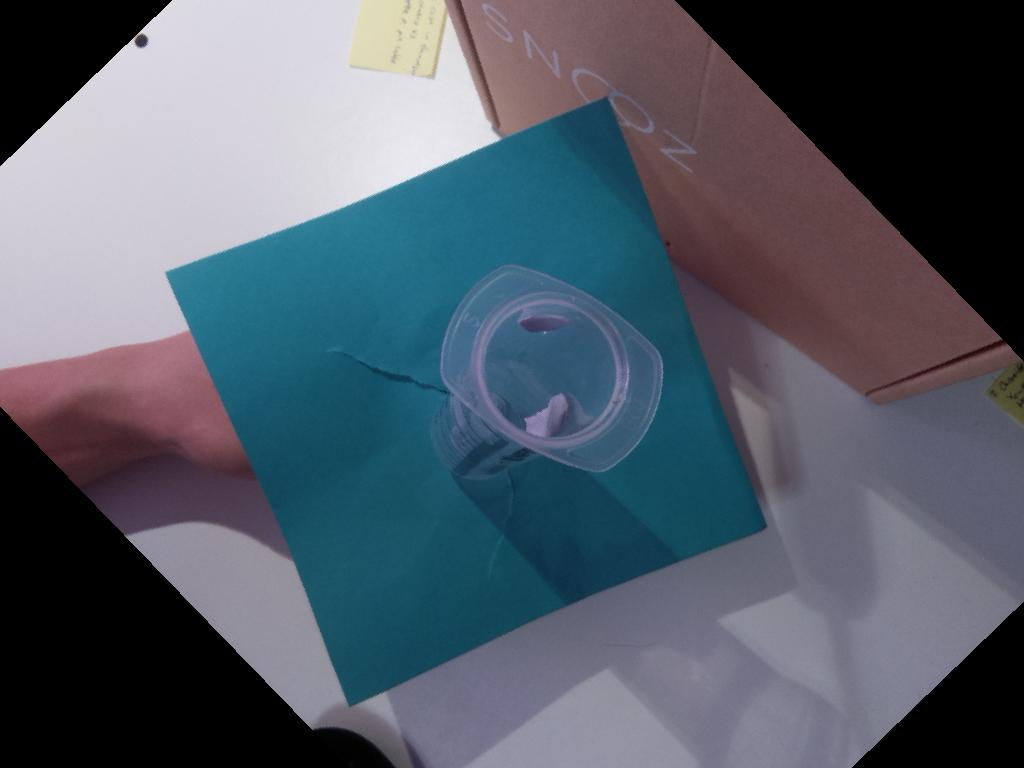dirty: (440, 262, 663, 474)
